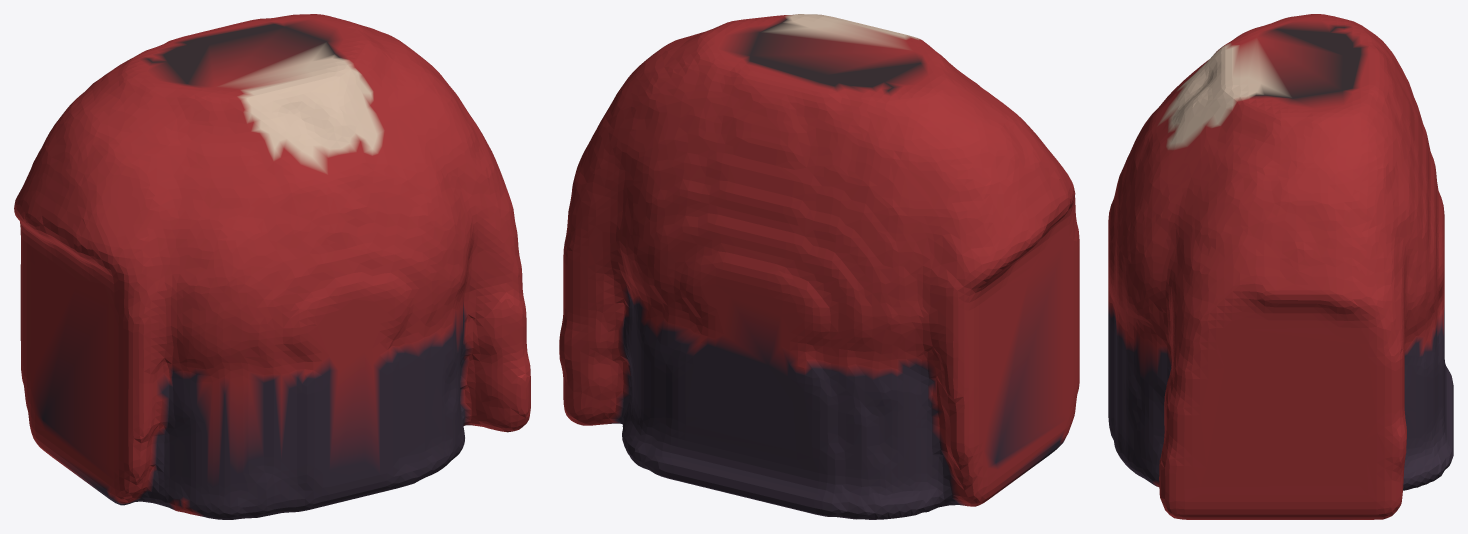
Rendered from torso.glb.
The picture shows the model from 3 angles, left to right: view 1: azimuth 30°, elevation 25°; view 2: azimuth 150°, elevation 25°; view 3: azimuth 270°, elevation 25°; orthographic projection. The views are drawn at different scales.
Parts seen in each view (by area): view 1: geometry_0; view 2: geometry_0; view 3: geometry_0.
Part boxes in pixels (x1,y1,x2,y2): geometry_0: (14, 14, 530, 519); geometry_0: (559, 14, 1079, 519); geometry_0: (1108, 14, 1453, 519).
Bounding box in the file's own units: 0.4155 × 0.3501 × 0.3021.
